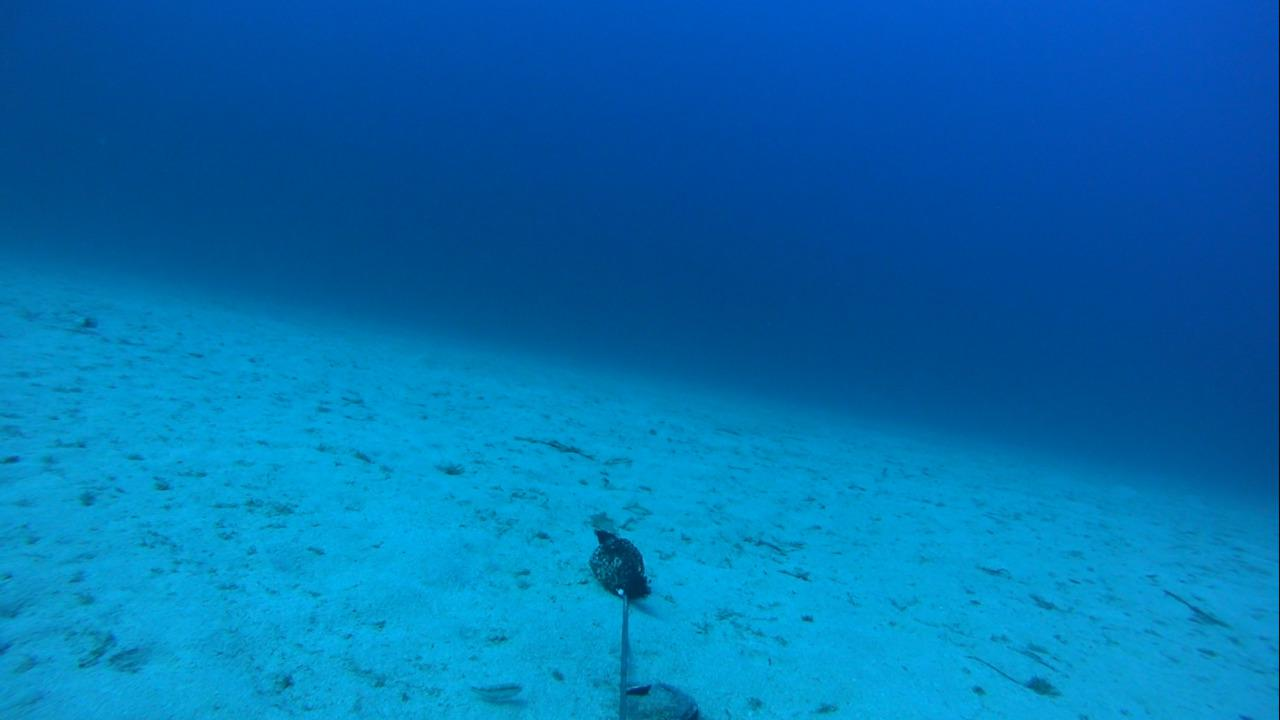dactylopterus: (18, 289, 101, 336)
